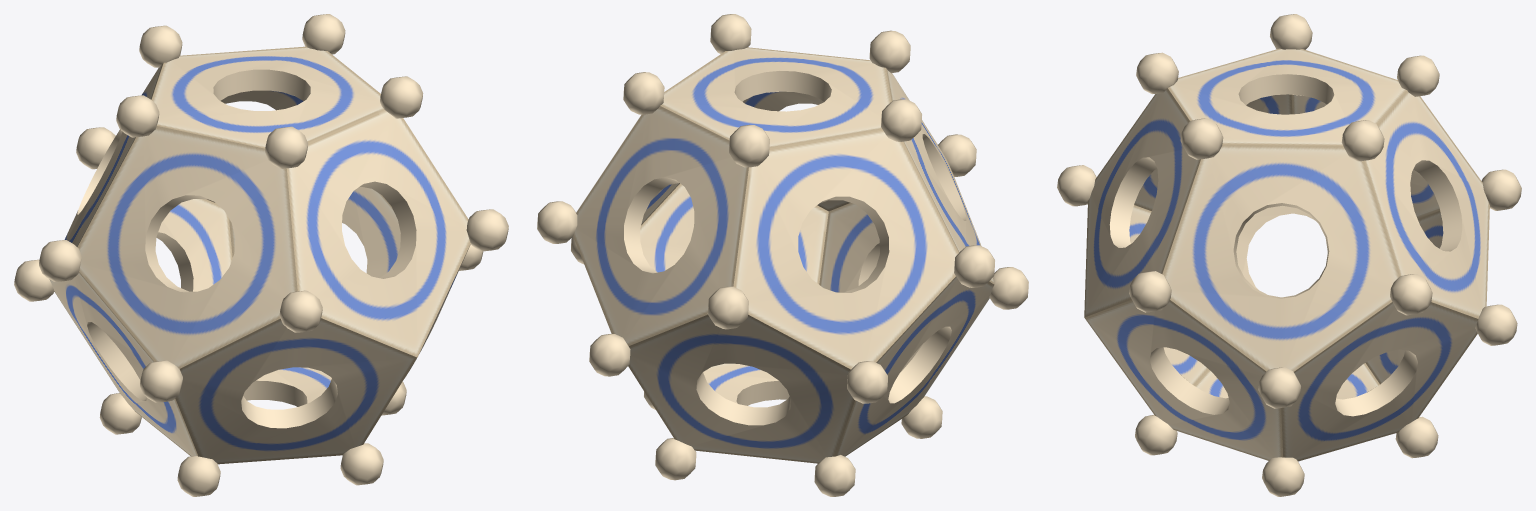
The model's file is Dodecahedron.fbx.
The picture shows the model from 3 angles, left to right: view 1: azimuth 30°, elevation 25°; view 2: azimuth 150°, elevation 25°; view 3: azimuth 270°, elevation 25°; orthographic projection. The views are drawn at different scales.
Parts seen in each view (by area): view 1: pSolid21; view 2: pSolid21; view 3: pSolid21.
Boxes of the visible parts, x1,y1,x2,y2 form: pSolid21: (14, 14, 508, 496); pSolid21: (537, 14, 1028, 496); pSolid21: (1057, 14, 1521, 496).
Bounding box in the file's own units: 2.26 × 1.88 × 2.16.
